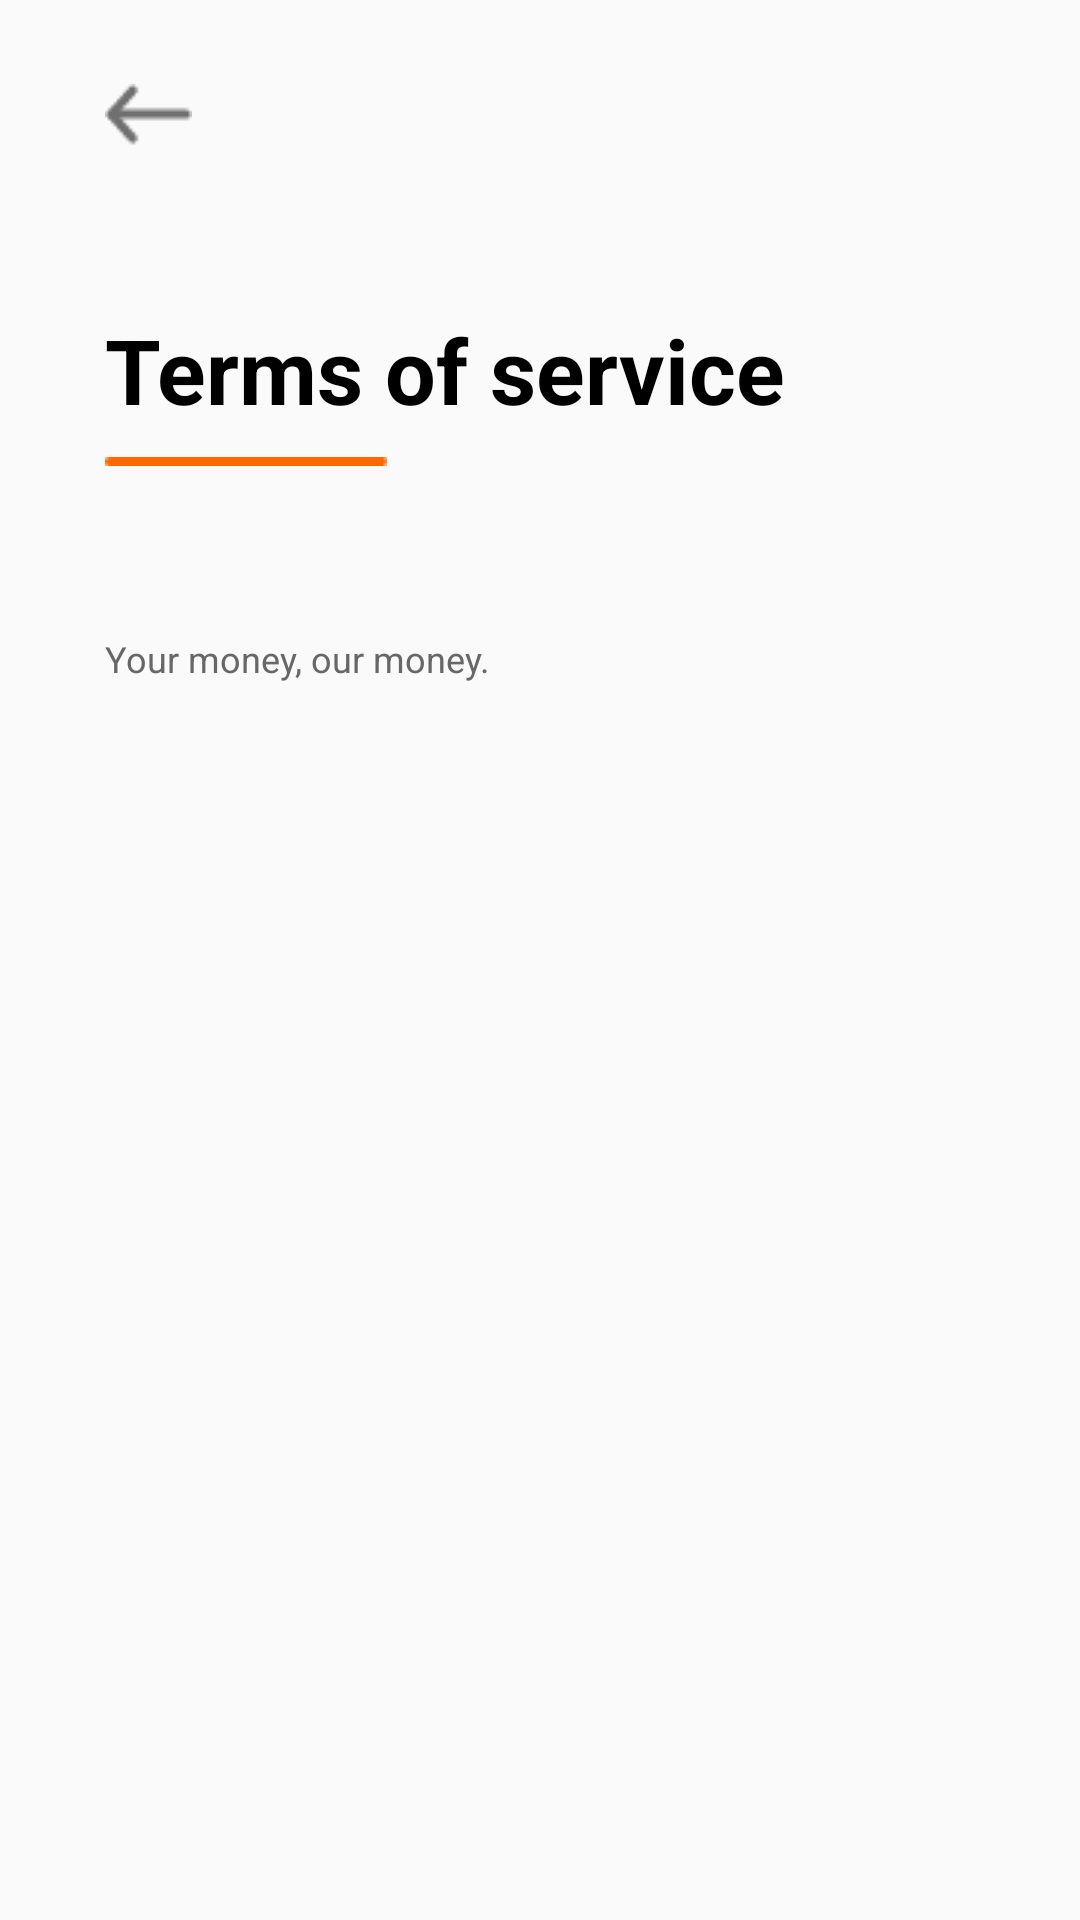

Point at icon controls on the screen. Image size 1080x1920, points as (x=x, y=y).
Arrow: (x=148, y=114)
